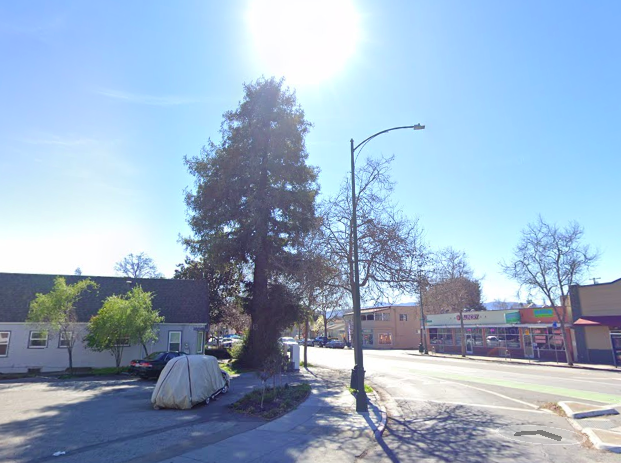tree: (176, 71, 343, 372)
